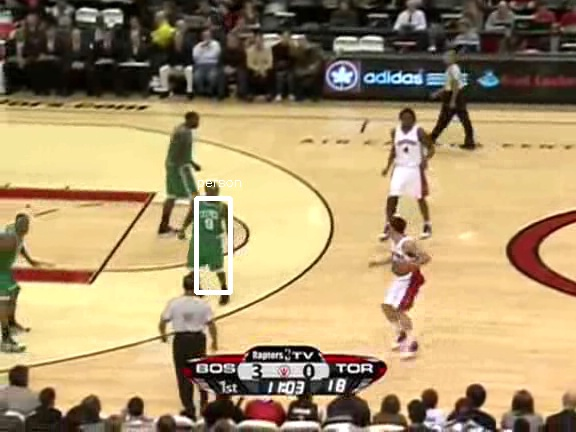person: (192, 195, 226, 276), (191, 195, 225, 276), (193, 195, 227, 276), (192, 194, 226, 275), (192, 196, 226, 277)
target_negative: (124, 40, 482, 261), (393, 9, 446, 388), (181, 78, 522, 128), (152, 318, 219, 371), (348, 388, 465, 417), (285, 87, 563, 98)
